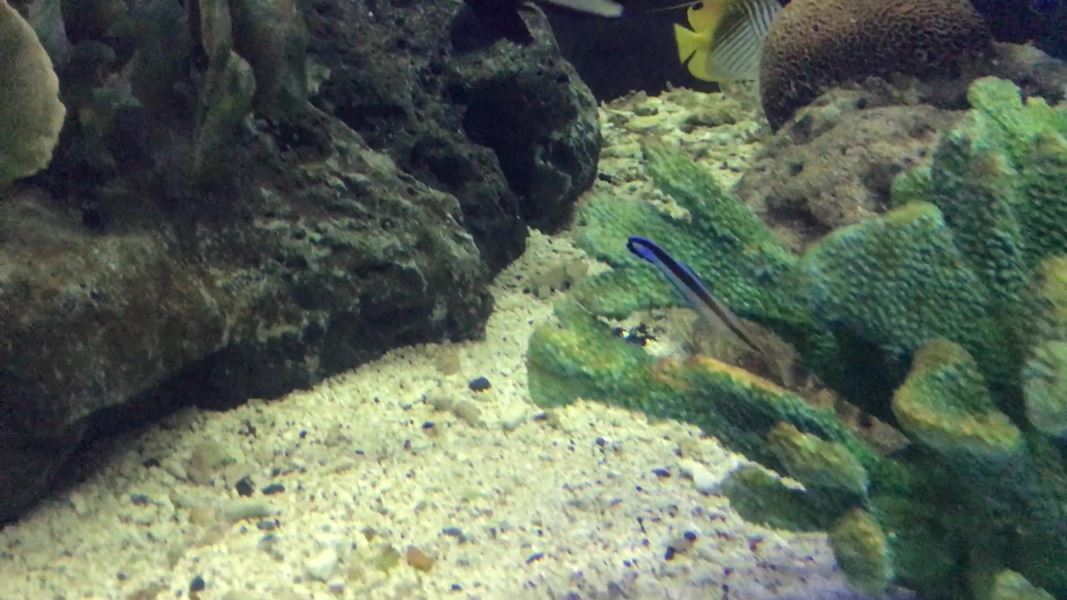Bluesteak cleaner wrasse: (610, 227, 779, 364)
